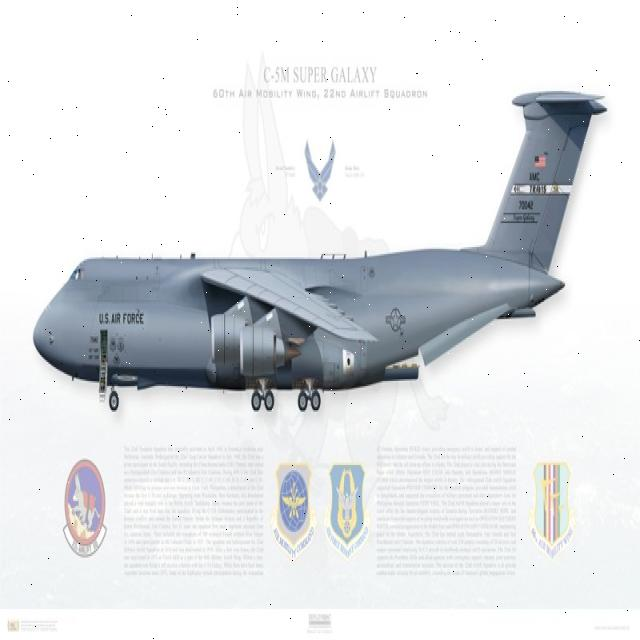C5: (22, 80, 620, 440)
